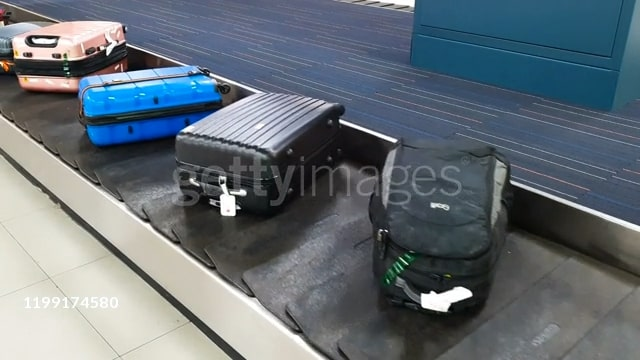baggage: (364, 136, 516, 323), (176, 92, 349, 216), (73, 69, 233, 151), (9, 18, 128, 95)
